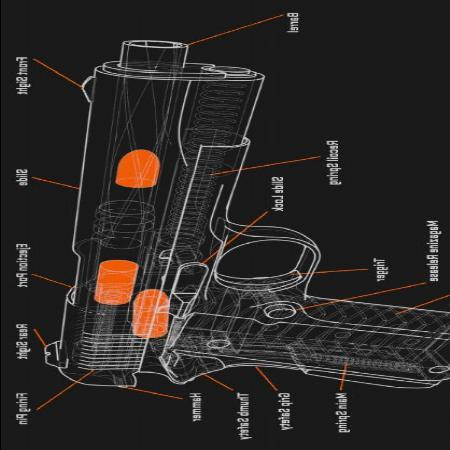Pistol: (41, 40, 448, 392)
